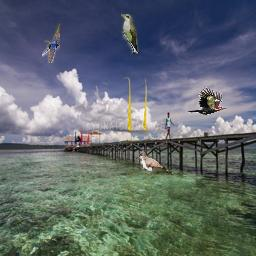Cuckoo: (136, 151, 173, 175), (121, 14, 139, 54)
Swallow: (42, 23, 60, 63)
Woodpecker: (187, 87, 227, 115)
